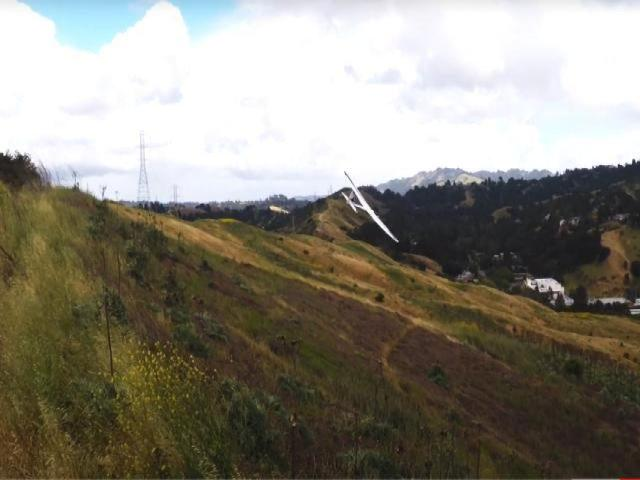iha: (341, 170, 400, 242)
